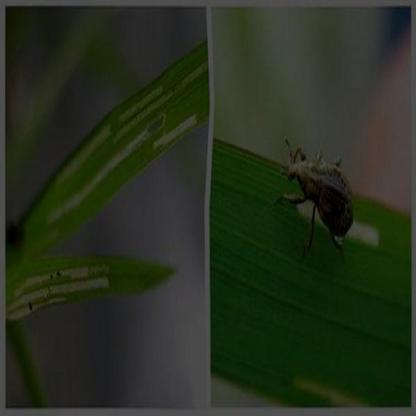rice-bug: (284, 144, 356, 241)
